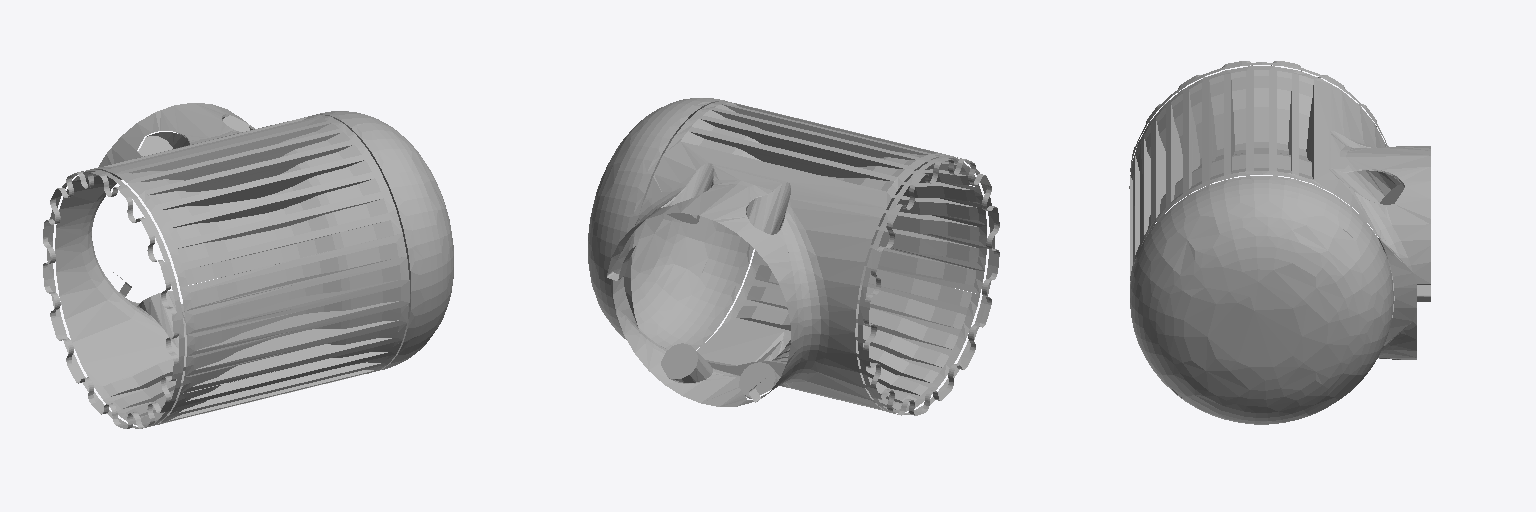
Rendered from hip-yaw-housing-mirror.obj.
The picture shows the model from 3 angles: view 1: azimuth 30°, elevation 25°; view 2: azimuth 150°, elevation 25°; view 3: azimuth 270°, elevation 25°; orthographic projection.
Visible parts, largest first — view 1: __TMPOBJ_____TMPMESH__.071; view 2: __TMPOBJ_____TMPMESH__.071; view 3: __TMPOBJ_____TMPMESH__.071.
Part boxes in pixels (left/top/right/bottom): __TMPOBJ_____TMPMESH__.071: left=43, top=103, right=453, bottom=428; __TMPOBJ_____TMPMESH__.071: left=588, top=98, right=999, bottom=415; __TMPOBJ_____TMPMESH__.071: left=1129, top=61, right=1430, bottom=424.
Bounding box in the file's own units: 0.1015 × 0.074 × 0.0842.